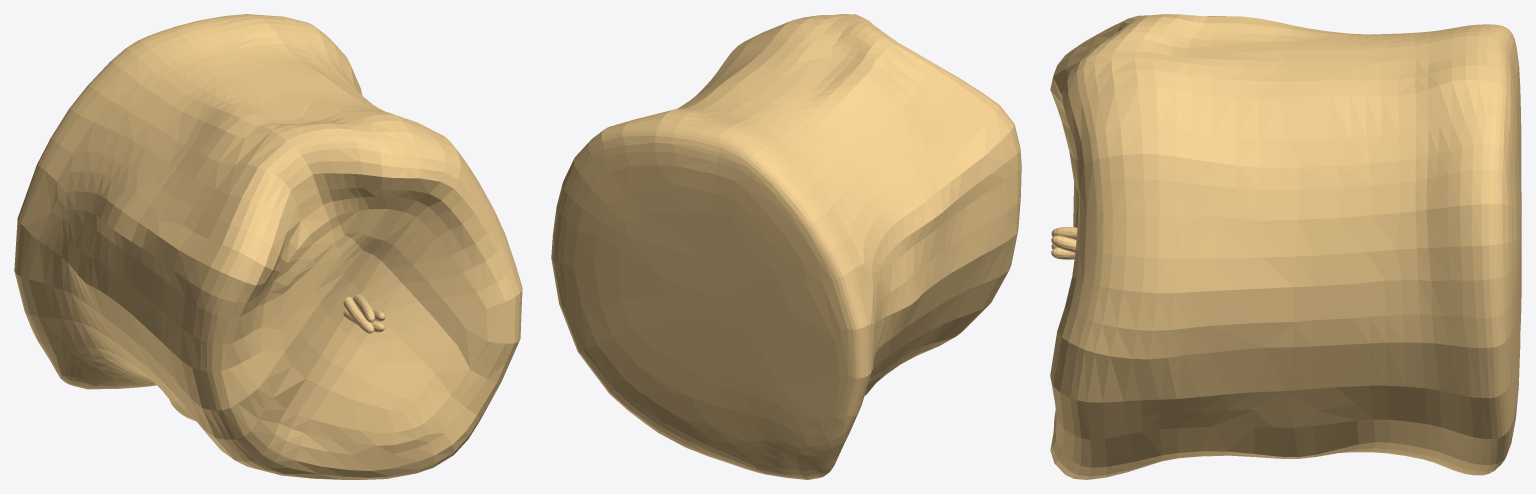
The model's file is nvidia_salon_candle.glb.
The picture shows the model from 3 angles, left to right: view 1: azimuth 30°, elevation 25°; view 2: azimuth 150°, elevation 25°; view 3: azimuth 270°, elevation 25°; orthographic projection. The views are drawn at different scales.
Parts seen in each view (by area): view 1: sm_decor_candle_a01_mesh_00; view 2: sm_decor_candle_a01_mesh_00; view 3: sm_decor_candle_a01_mesh_00.
Boxes of the visible parts, x1,y1,x2,y2 form: sm_decor_candle_a01_mesh_00: (14,14,522,479); sm_decor_candle_a01_mesh_00: (551,14,1021,479); sm_decor_candle_a01_mesh_00: (1050,14,1521,479).
Bounding box in the file's own units: 1.21 × 1.21 × 1.22.
